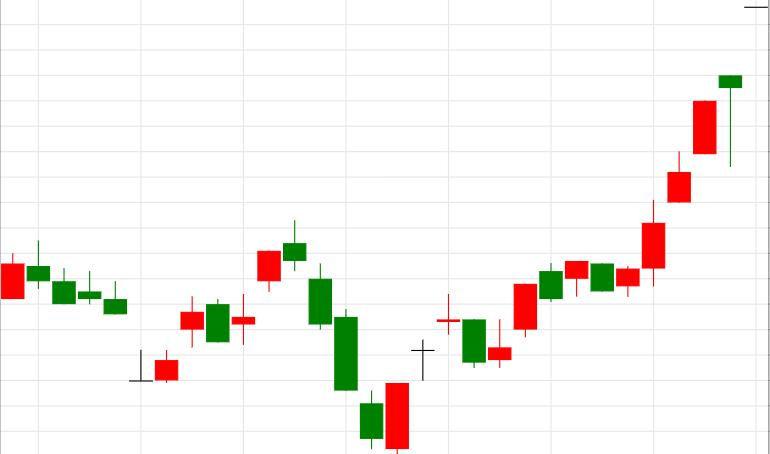bullish_engulfing_rise: (283, 219, 409, 453)
